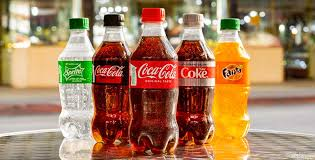HDPE Cap: (140, 8, 166, 23), (183, 14, 205, 28), (103, 15, 126, 27), (219, 19, 240, 30), (70, 18, 89, 29)
PET Bottle: (131, 7, 178, 154), (93, 14, 131, 143), (179, 12, 214, 145), (215, 17, 251, 140), (59, 17, 93, 140)
PVC Label: (132, 60, 179, 89), (180, 60, 216, 87), (94, 61, 131, 85), (215, 61, 250, 85), (58, 61, 92, 83)
